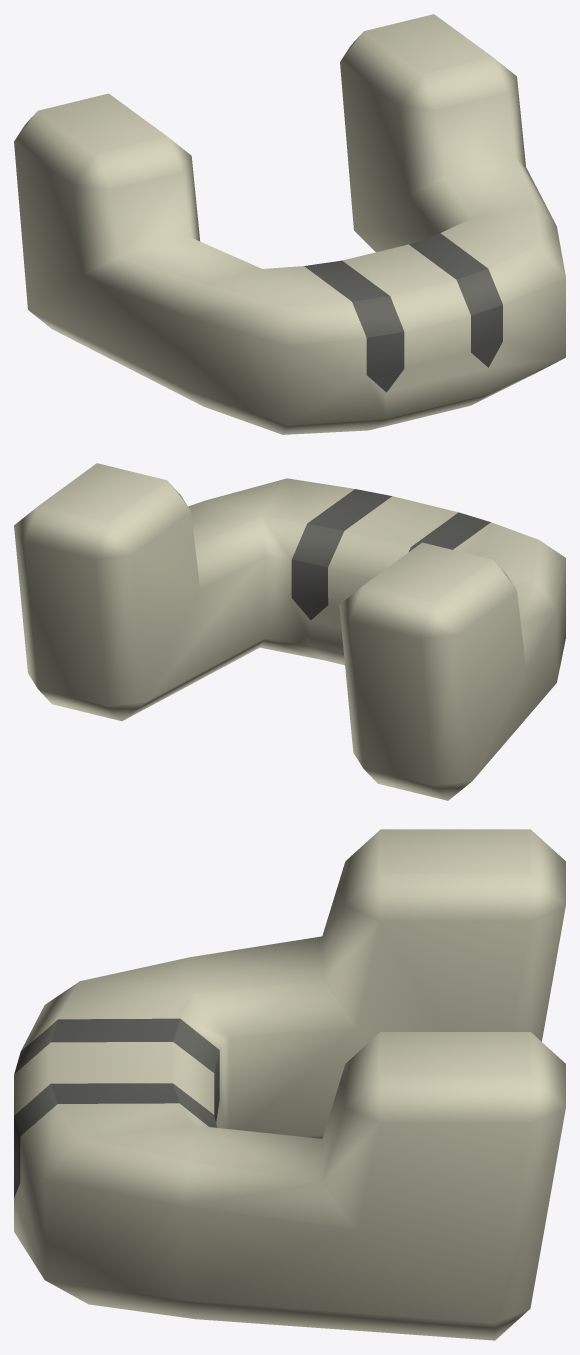
The model's file is skull_jaw.fbx.
3 renders of one model, top to bottom at view 1: azimuth 30°, elevation 25°; view 2: azimuth 150°, elevation 25°; view 3: azimuth 270°, elevation 25°, orthographic. The views are drawn at different scales.
Visible parts, largest first — view 1: skull_jaw; view 2: skull_jaw; view 3: skull_jaw.
Boxes of the visible parts, <box> form: skull_jaw: <box>14,14,565,434</box>; skull_jaw: <box>14,463,565,800</box>; skull_jaw: <box>14,829,565,1340</box>.
Size of the model in its own units: 38.26 by 18.11 by 32.34.
